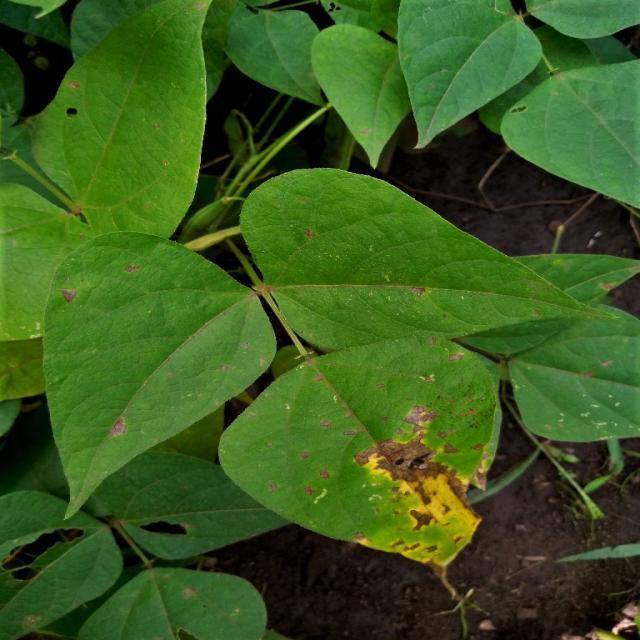hawar: (279, 383, 514, 596), (401, 277, 472, 317), (40, 268, 91, 316), (105, 405, 141, 457), (278, 210, 331, 240), (49, 95, 90, 130), (114, 263, 159, 291)
mozaik: (124, 315, 267, 379), (80, 146, 149, 206), (361, 198, 429, 252), (1, 223, 62, 248)
